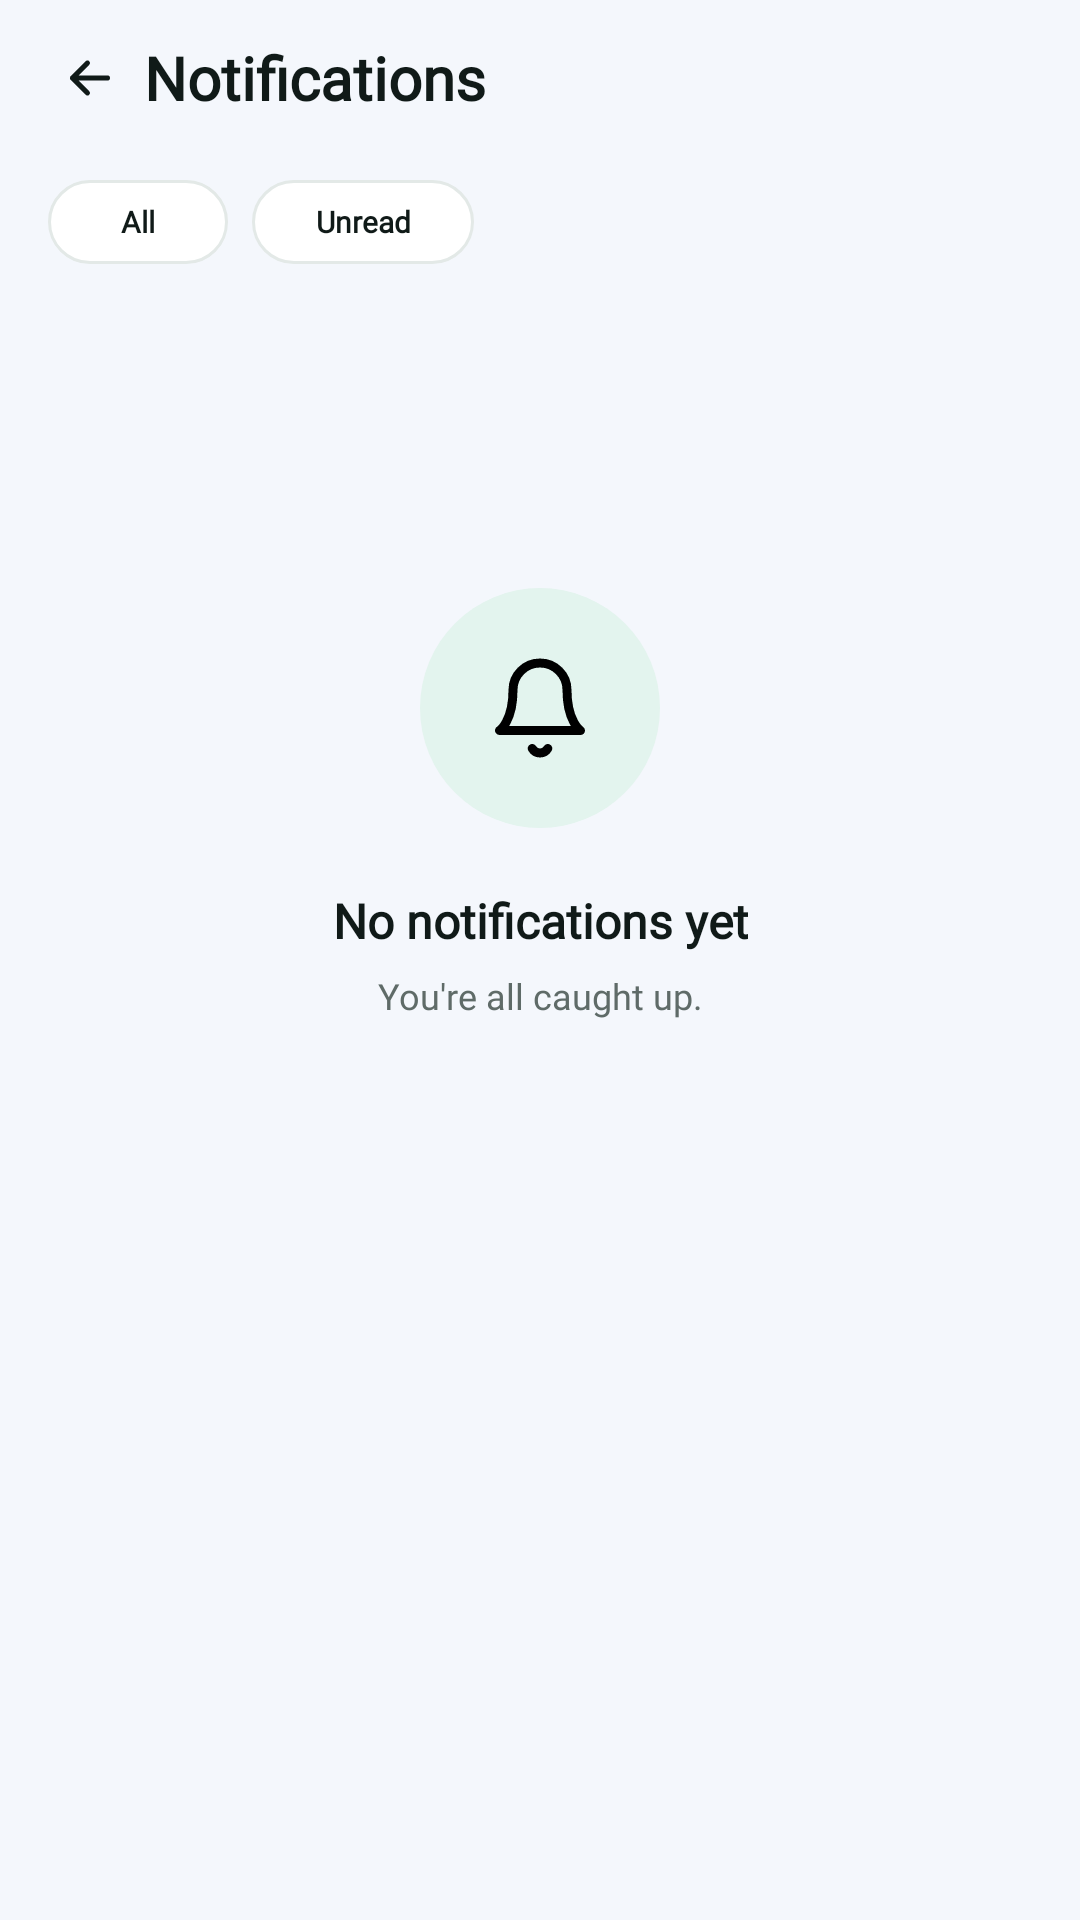

Locate icon controls on the screen. Image size 1080x1920, boxes as (x1, y1, x2, y2).
Back: (70, 60, 110, 96)
bell: (420, 588, 660, 828)
